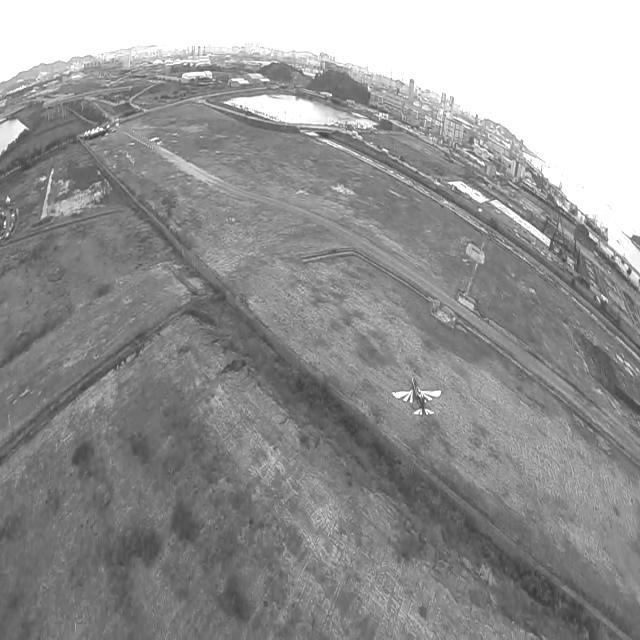iha: (386, 361, 448, 419)
